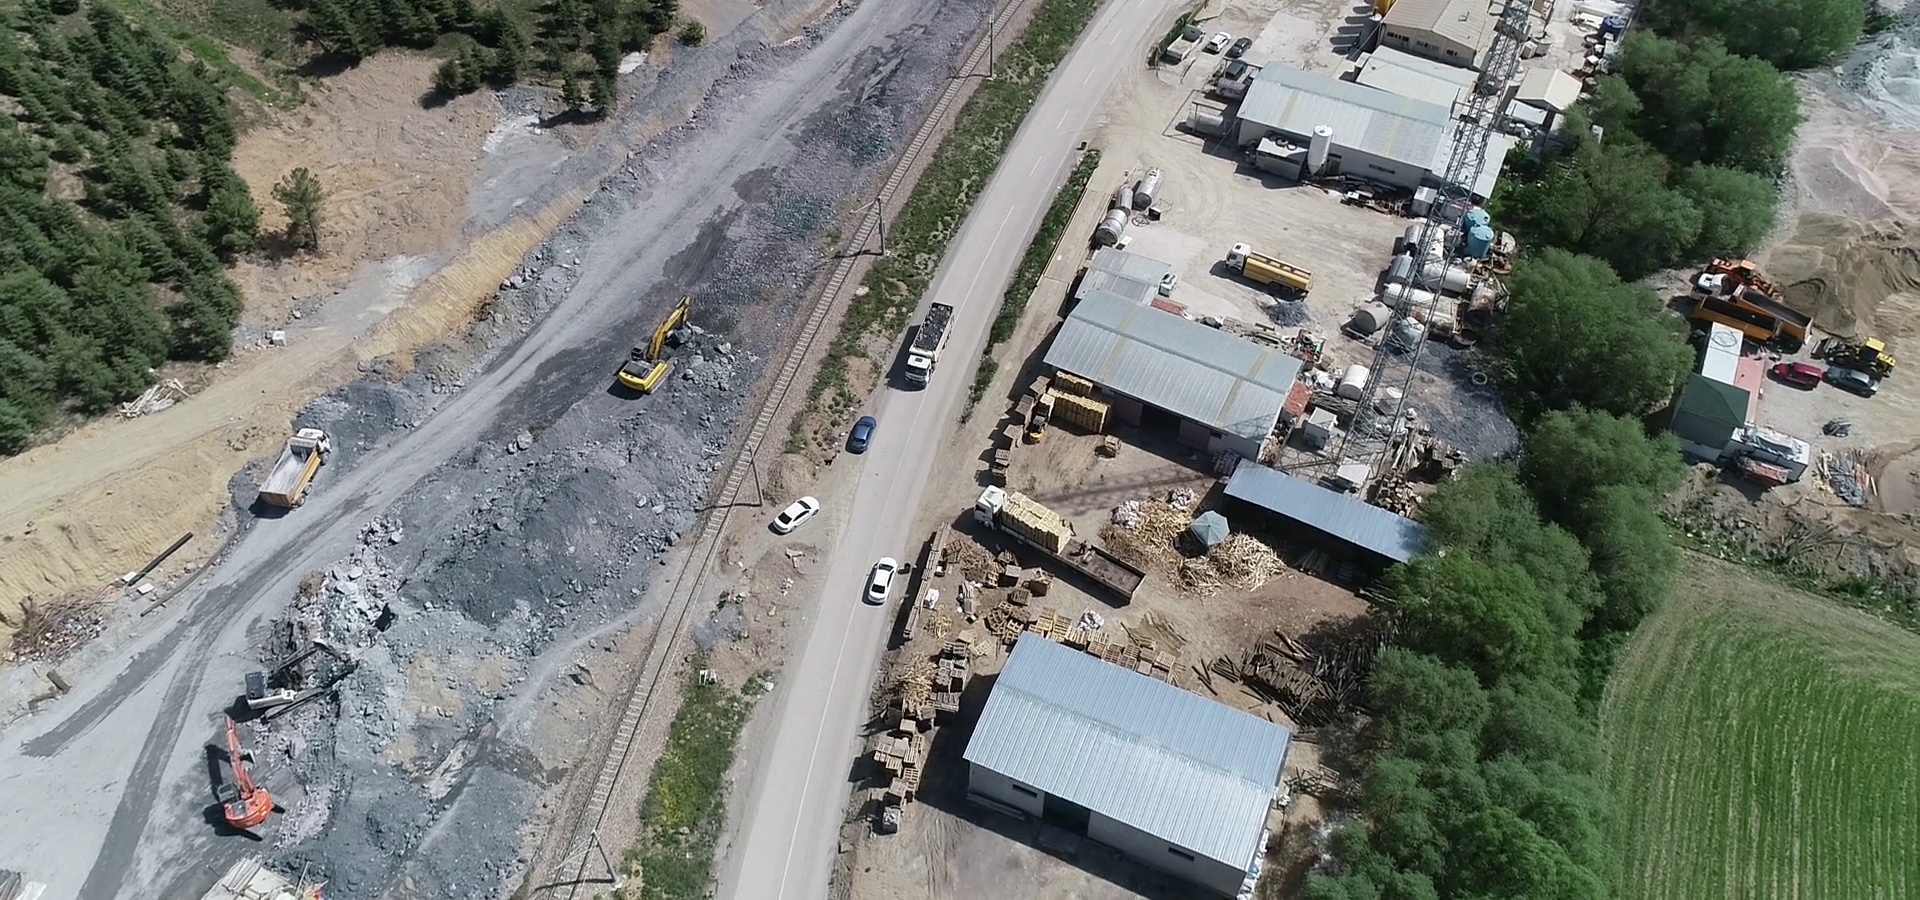araba: (767, 489, 817, 539), (1820, 360, 1883, 399), (1766, 356, 1821, 398), (860, 550, 898, 609), (846, 411, 877, 460), (1228, 34, 1258, 61), (1205, 26, 1232, 53)
ismakinasi: (200, 711, 283, 849), (241, 624, 359, 720), (613, 288, 700, 384)
kamyon: (954, 471, 1152, 604), (1213, 238, 1324, 326), (257, 419, 326, 523), (900, 288, 954, 383)
traktor: (1815, 326, 1905, 369)
